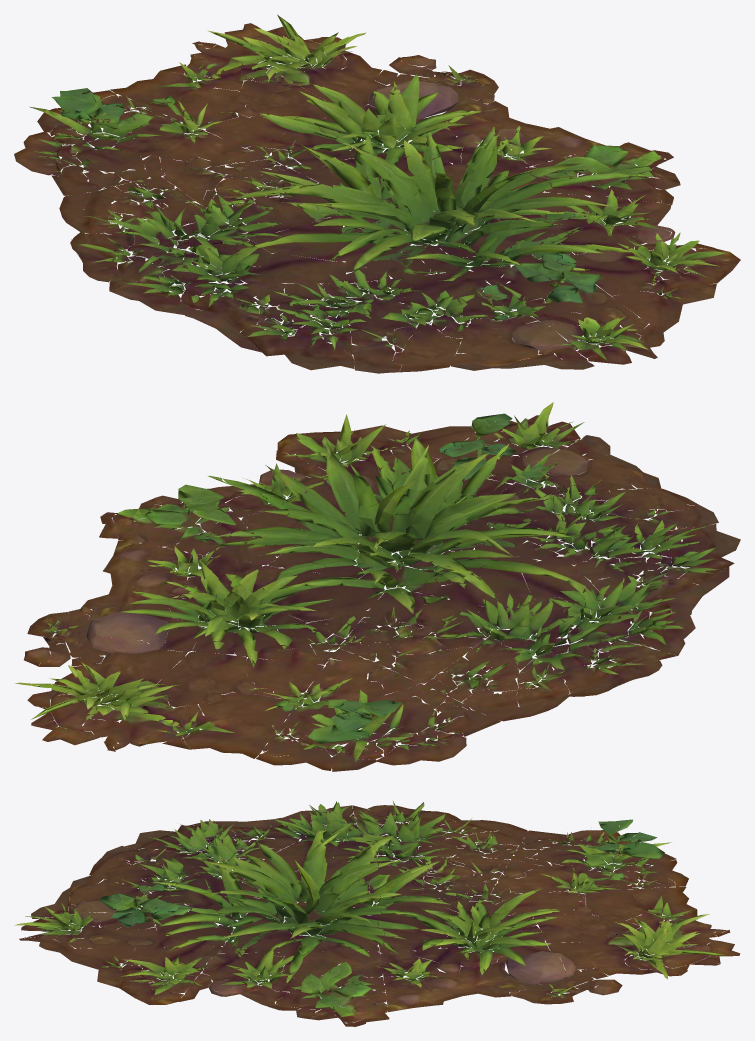
File: solo_vegetacao.glb
3 renders of one model, top to bottom at view 1: azimuth 30°, elevation 25°; view 2: azimuth 150°, elevation 25°; view 3: azimuth 270°, elevation 25°, orthographic. The views are drawn at different scales.
Visible parts, largest first — view 1: tripo_node_7e188909-dc38-4b71-9155-306495c38cdc; view 2: tripo_node_7e188909-dc38-4b71-9155-306495c38cdc; view 3: tripo_node_7e188909-dc38-4b71-9155-306495c38cdc.
Boxes of the visible parts, x1,y1,x2,y2 form: tripo_node_7e188909-dc38-4b71-9155-306495c38cdc: (14, 14, 740, 373); tripo_node_7e188909-dc38-4b71-9155-306495c38cdc: (15, 402, 740, 771); tripo_node_7e188909-dc38-4b71-9155-306495c38cdc: (14, 801, 740, 1026).
Size of the model in its own units: 2.62 by 0.3333 by 3.63.
Materials: 1 (1 with a texture image).
